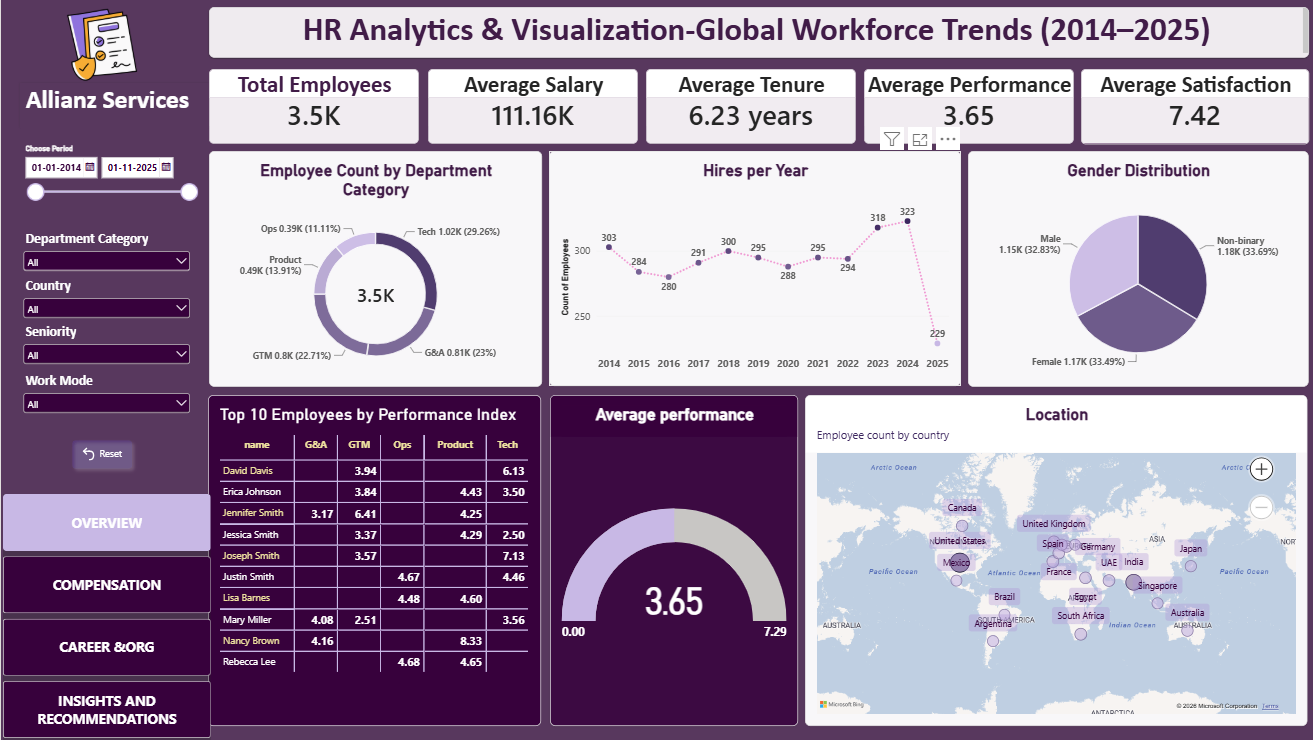

What the dashboard file says about the page in this screenshot:
{"tool":"powerbi","page":{"name":"OVERVIEW","canvas":[1920,1080],"ordinal":0},"visuals":[{"type":"textbox","box":[303.5,10.2,1604.9,74.4],"z":0},{"type":"textbox","box":[28.1,121.3,277.8,65.1],"z":1000},{"type":"cardVisual","title":"Total Employees","fields":{"Data":["CountNonNull(employees.employee_id)"]},"box":[303.5,100.7,306.4,109.4],"z":2000},{"type":"cardVisual","title":"Average Salary","fields":{"Data":["Avg(employees.initial_salary_usd)"]},"box":[623,100.7,306.4,109.4],"z":3000},{"type":"cardVisual","title":"Average Tenure","fields":{"Data":["Measure Table.Average Tenure"]},"box":[941,100.7,306.4,109.4],"z":4000},{"type":"cardVisual","title":"Average Performance","fields":{"Data":["Avg(employees.performance_score)"]},"box":[1258.5,100.5,306.4,109.4],"z":5000},{"type":"cardVisual","title":"Average Satisfaction","fields":{"Data":["Avg(employees.satisfaction_score)"]},"box":[1575,100.5,333,109.5],"z":6000},{"type":"donutChart","title":"Employee Count by Department Category","fields":{"Category":["employees.department_category"],"Y":["CountNonNull(employees.employee_id)"]},"box":[303,220.5,486,343.5],"z":7000},{"type":"pieChart","title":"Gender Distribution","fields":{"Category":["employees.gender"],"Y":["CountNonNull(employees.employee_id)"]},"box":[1411.5,220.5,496.5,343.5],"z":8000},{"type":"lineChart","title":"Hires per Year","fields":{"Category":["employees.hire_date.Variation.Date Hierarchy.Year"],"Y":["CountNonNull(employees.employee_id)"]},"box":[799.5,220.3,601.1,342.9],"z":9000},{"type":"map","title":"Location","fields":{"Category":["locations.country"],"Size":["Measure Table.Employee count"]},"box":[1173.2,576.9,733.4,483],"z":10000},{"type":"pivotTable","title":"Top 10 Employees by Performance Index","fields":{"Values":["Sum(employees.performance_score)"],"Rows":["employees.name"],"Columns":["employees.department_category"]},"box":[302.6,576.9,486,483],"z":11000},{"type":"gauge","title":"Average performance","fields":{"Y":["Measure Table.avg performance"]},"box":[800.5,576.9,362.2,483],"z":12000},{"type":"slicer","fields":{"Values":["employees.hire_date"]},"box":[28.3,210.2,263.9,102.9],"z":13000},{"type":"image","box":[55.2,10.4,183.4,110.3],"z":14000},{"type":"slicer","fields":{"Values":["employees.department_category"]},"box":[28.3,335.4,253.4,68.6],"z":15000},{"type":"slicer","fields":{"Values":["locations.country"]},"box":[28.3,404,253.4,68.6],"z":16000},{"type":"slicer","fields":{"Values":["employees.seniority"]},"box":[28.3,471.1,253.4,68.6],"z":17000},{"type":"slicer","fields":{"Values":["employees.work_mode"]},"box":[28.3,542.6,253.4,68.6],"z":18000},{"type":"actionButton","box":[94.4,633.3,105.5,59.8],"z":19000},{"type":"pageNavigator","box":[3.6,720.5,303.1,359.3],"z":20000}]}

Visuals, with their boxes in screenshot pixels (x1, y1, x2, y2), scaled from the page's 1920x1080 canvas onto the 1313x740 screenshot:
textbox: x1=208, y1=7, x2=1305, y2=58
textbox: x1=19, y1=83, x2=209, y2=128
"Total Employees" cardVisual: x1=208, y1=69, x2=417, y2=144
"Average Salary" cardVisual: x1=426, y1=69, x2=636, y2=144
"Average Tenure" cardVisual: x1=644, y1=69, x2=853, y2=144
"Average Performance" cardVisual: x1=861, y1=69, x2=1070, y2=144
"Average Satisfaction" cardVisual: x1=1077, y1=69, x2=1305, y2=144
"Employee Count by Department Category" donutChart: x1=207, y1=151, x2=540, y2=386
"Gender Distribution" pieChart: x1=965, y1=151, x2=1305, y2=386
"Hires per Year" lineChart: x1=547, y1=151, x2=958, y2=386
"Location" map: x1=802, y1=395, x2=1304, y2=726
"Top 10 Employees by Performance Index" pivotTable: x1=207, y1=395, x2=539, y2=726
"Average performance" gauge: x1=547, y1=395, x2=795, y2=726
slicer - employees.hire_date: x1=19, y1=144, x2=200, y2=215
image: x1=38, y1=7, x2=163, y2=83
slicer - employees.department_category: x1=19, y1=230, x2=193, y2=277
slicer - locations.country: x1=19, y1=277, x2=193, y2=324
slicer - employees.seniority: x1=19, y1=323, x2=193, y2=370
slicer - employees.work_mode: x1=19, y1=372, x2=193, y2=419
actionButton: x1=65, y1=434, x2=137, y2=475
pageNavigator: x1=2, y1=494, x2=210, y2=739
